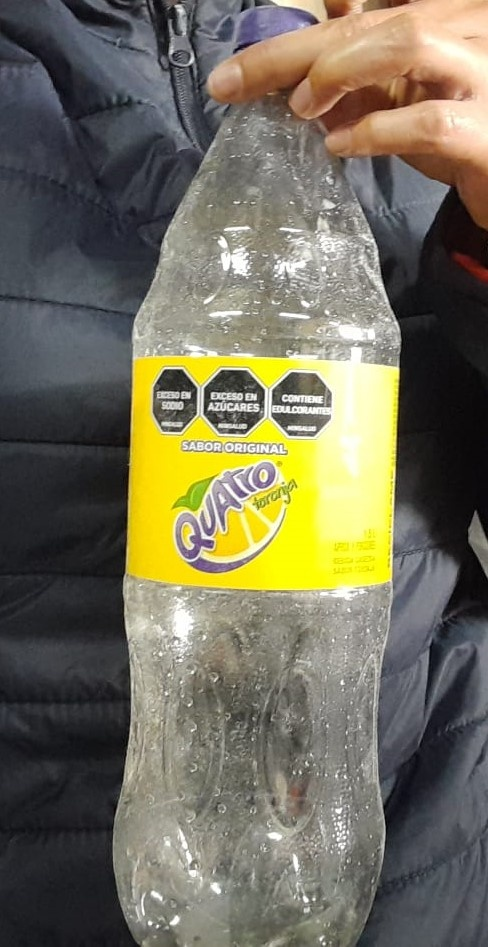Plastico: (108, 0, 404, 947)
